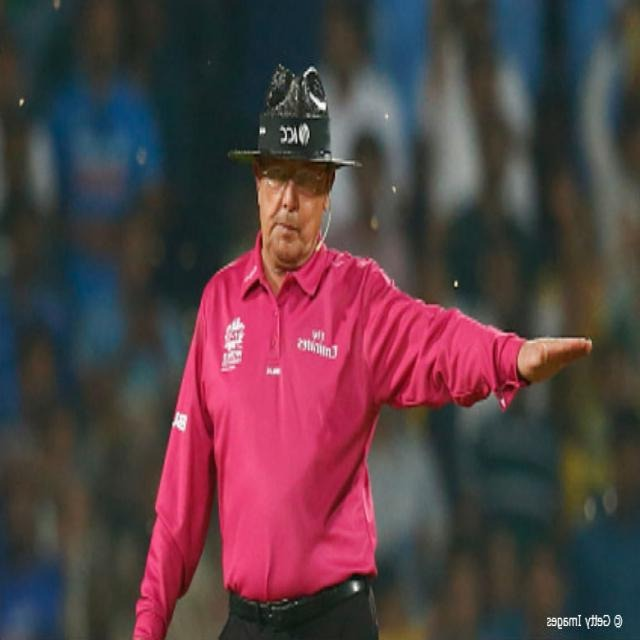No_Ball: (129, 44, 604, 640)
